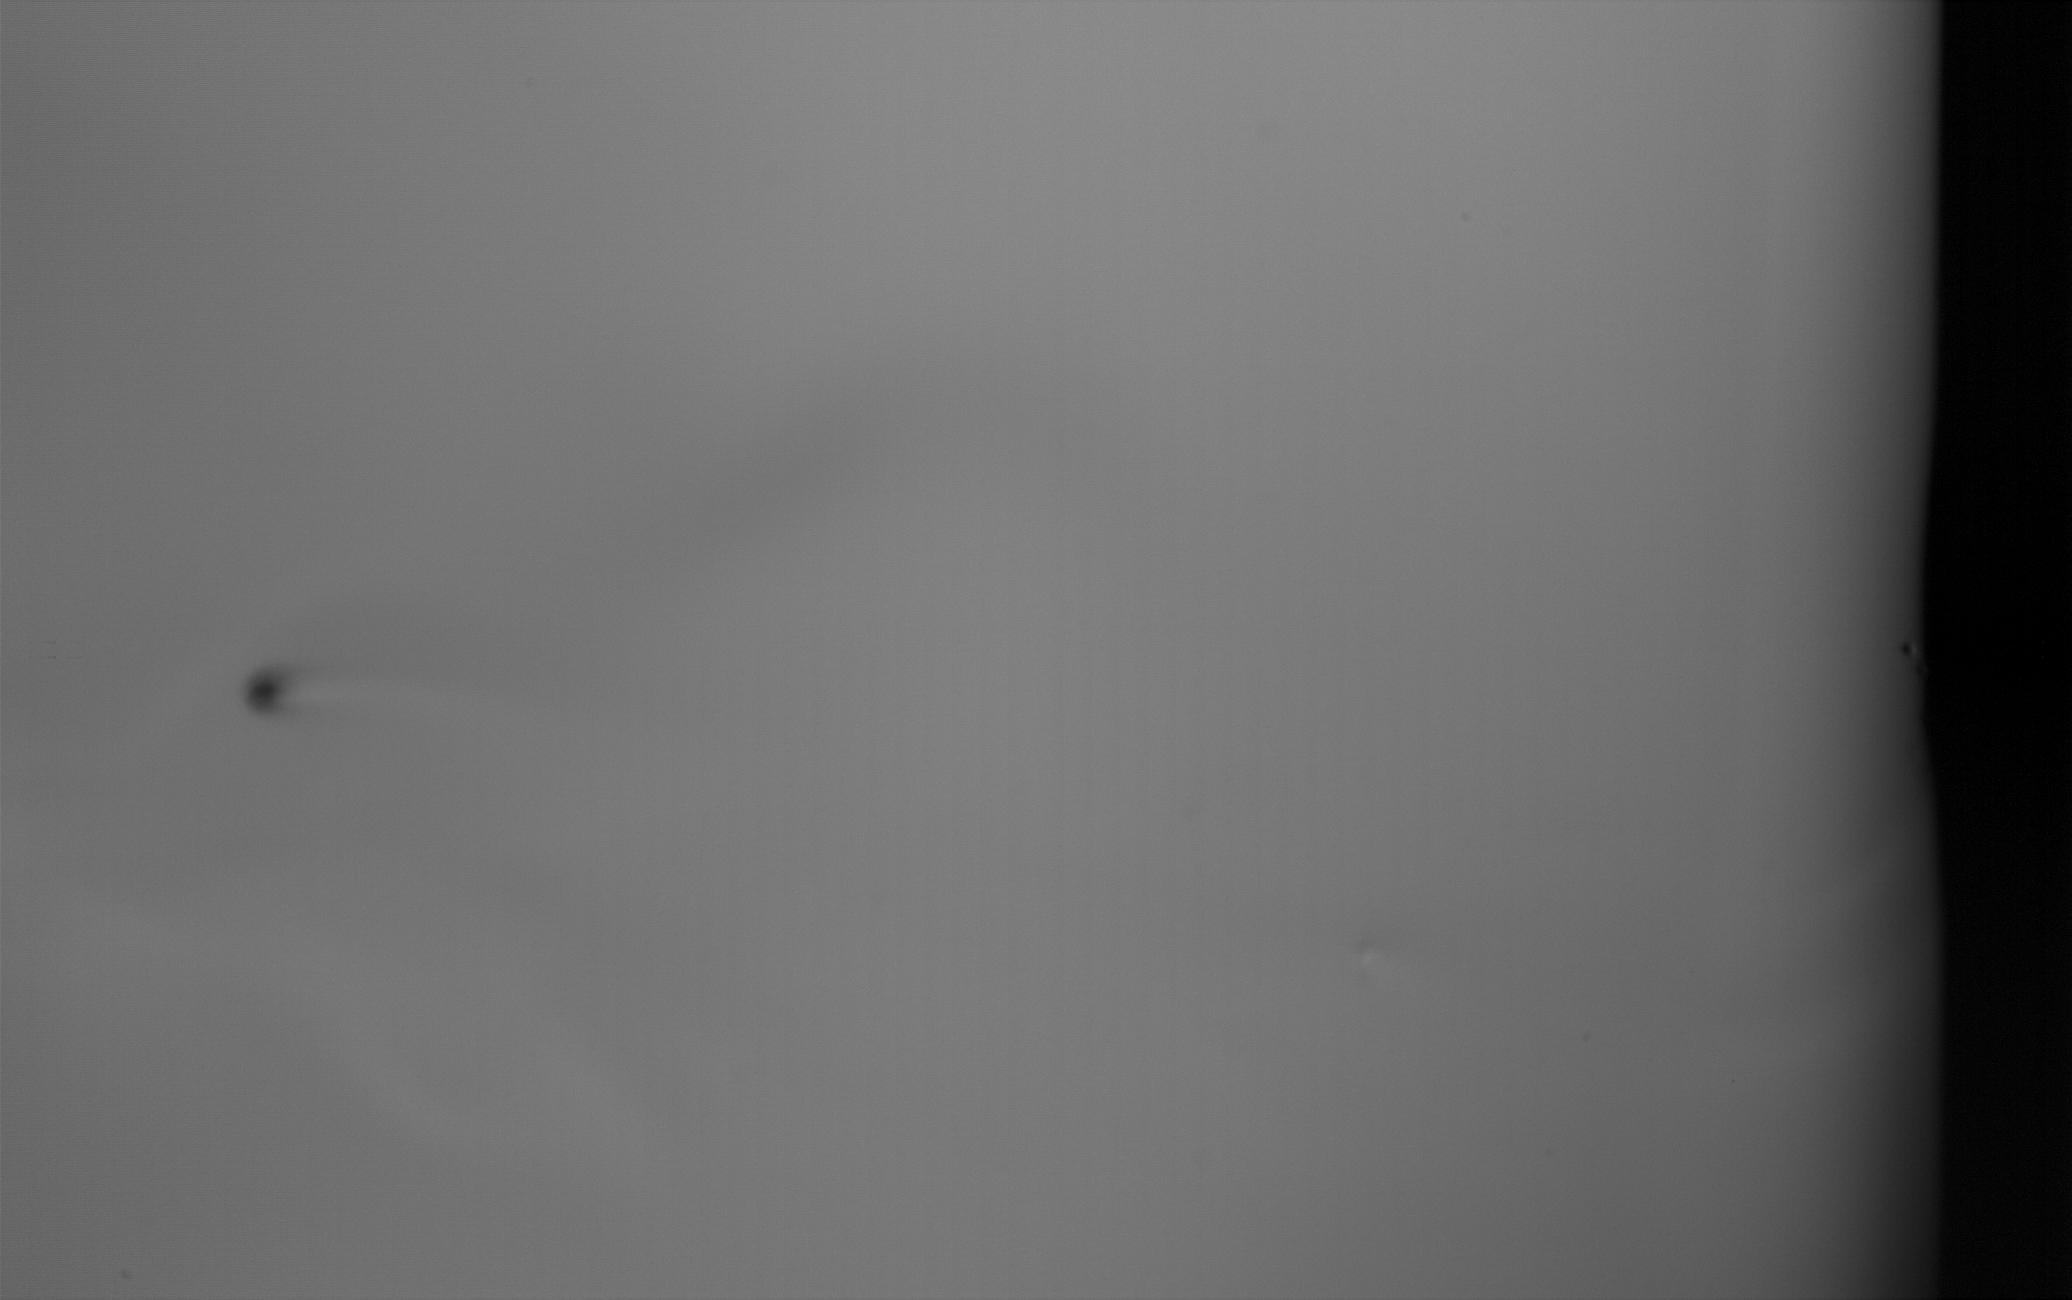Blurry: (243, 665, 289, 717)
